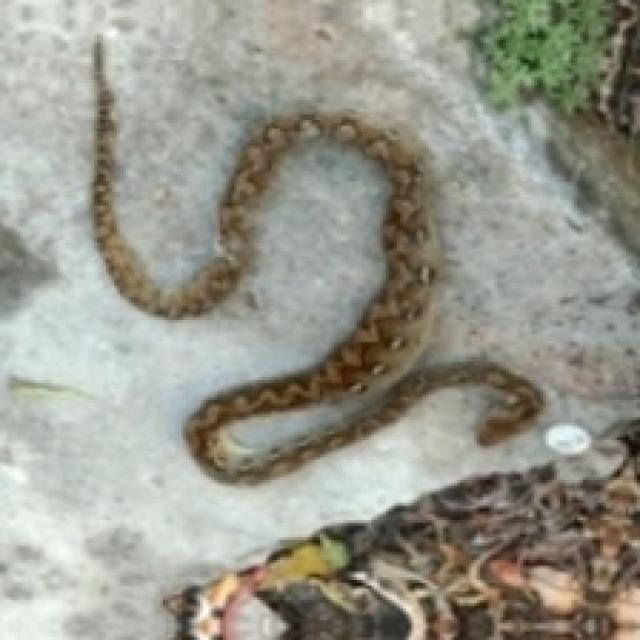reticulated python: (91, 37, 540, 480)
